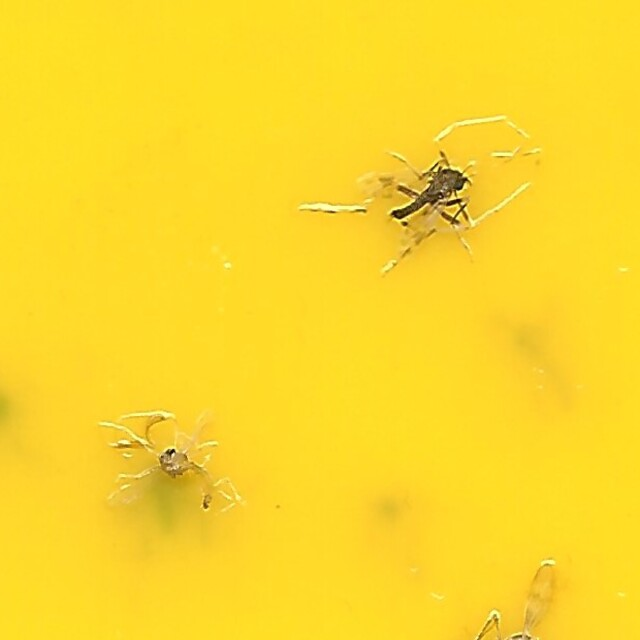Nematocera: (300, 113, 537, 269), (103, 404, 249, 527)
